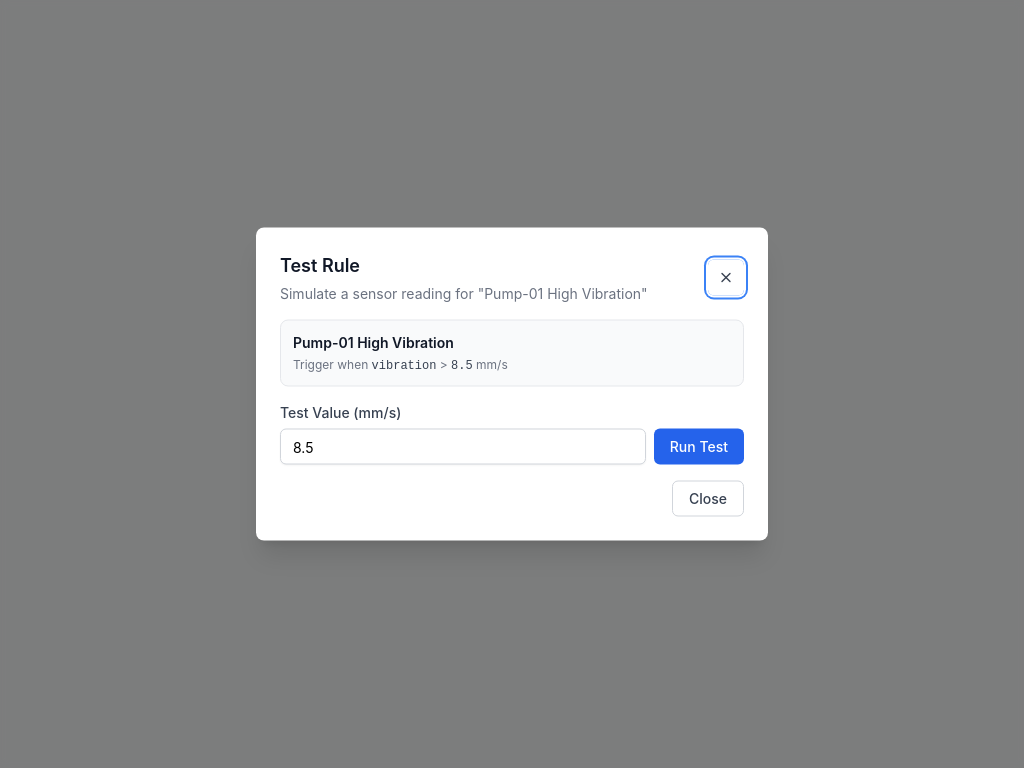
Test: TestRuleModal › shows the server's explanation and the recent readings with what each would have done
This screenshot has width=1024, height=768.
Click the button "Run Test" at (699, 446), box left=654, top=428, right=744, bottom=464
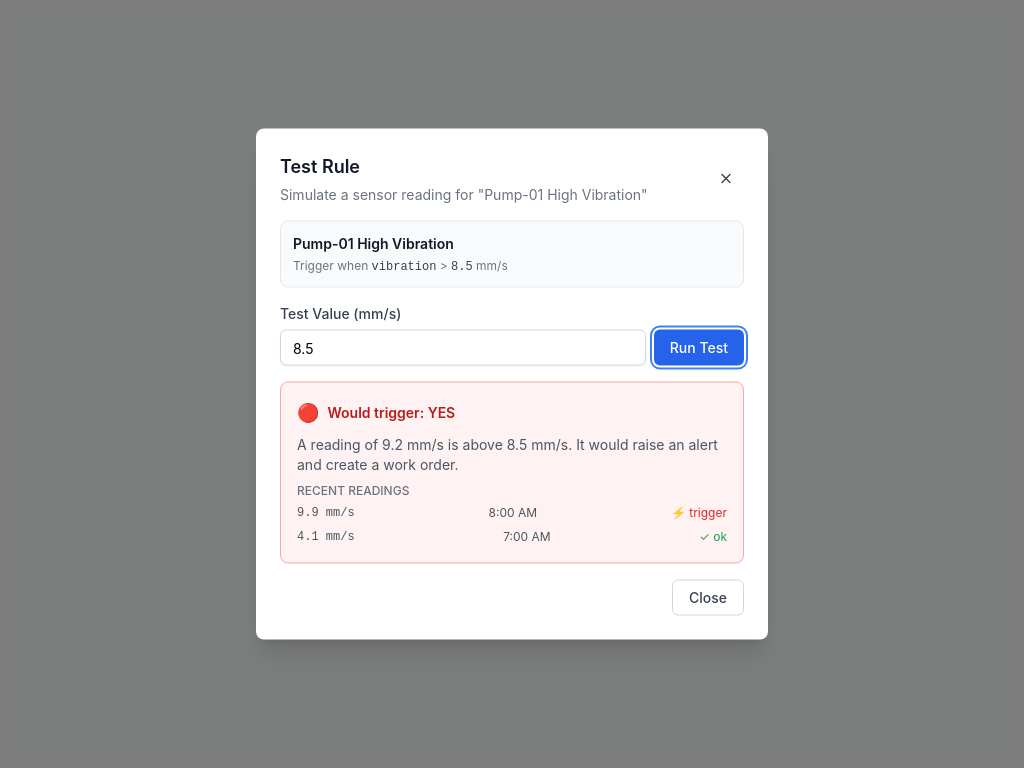
Expected: the text "it would raise an alert and create a work order" is shown, left=297, top=436, right=718, bottom=472
Expected: the text "9.9 mm/s" is shown, left=297, top=504, right=355, bottom=520
Expected: the text "4.1 mm/s" is shown, left=297, top=528, right=355, bottom=544
